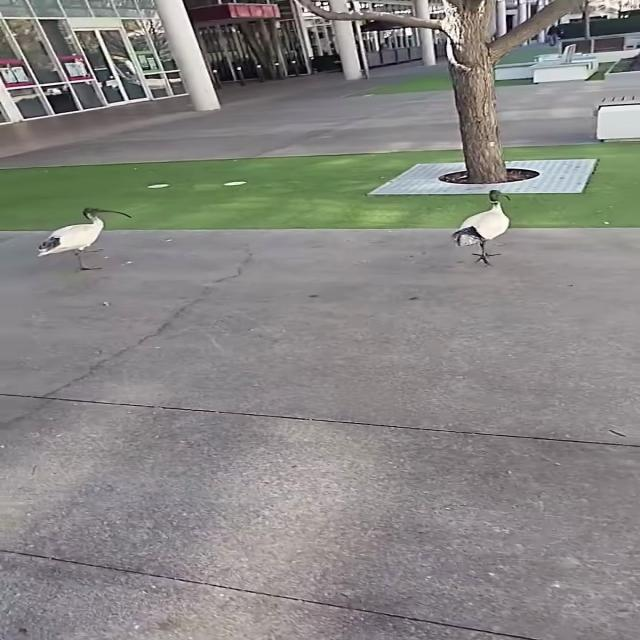Birds-Ibis: (30, 202, 136, 276), (448, 187, 520, 269)
